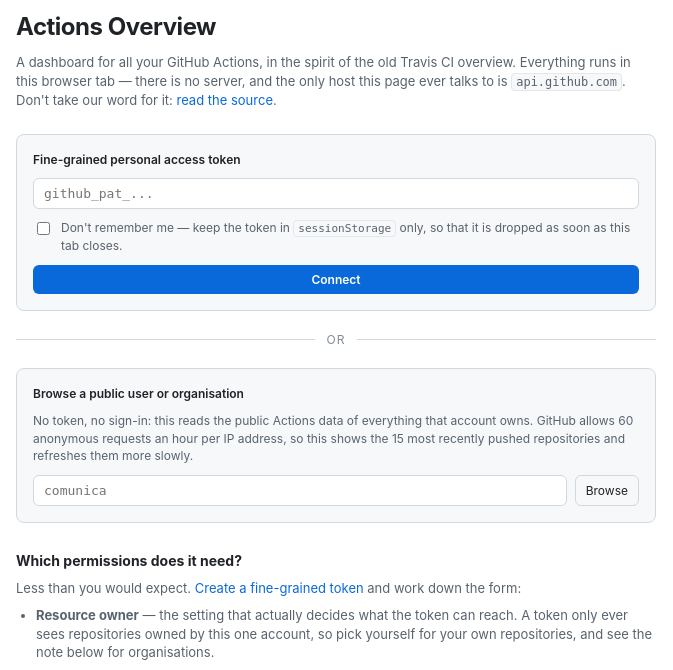
Scenario: App › reports a pasted token that the API rejects, without storing it
In the password field with placeholder "github_pat_...": (336, 194) [33,178,639,209], type "bad"
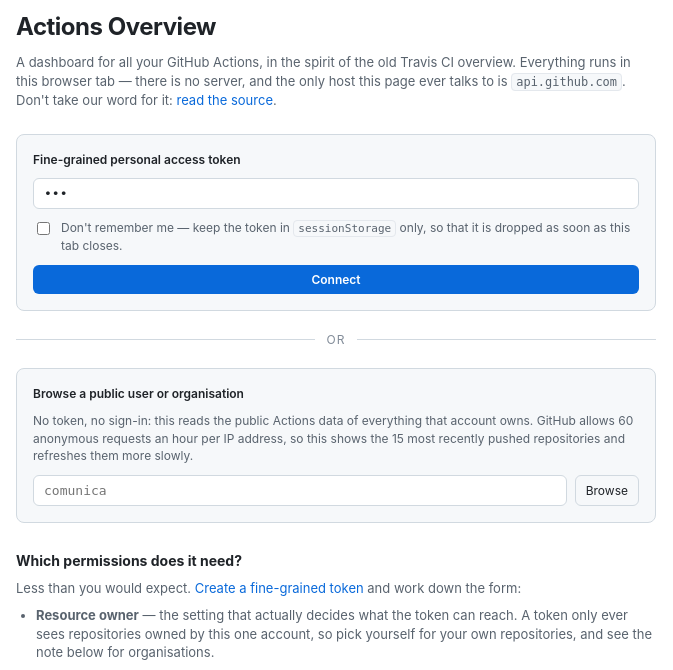
Click the button "Connect": (336, 279) [33,265,639,294]
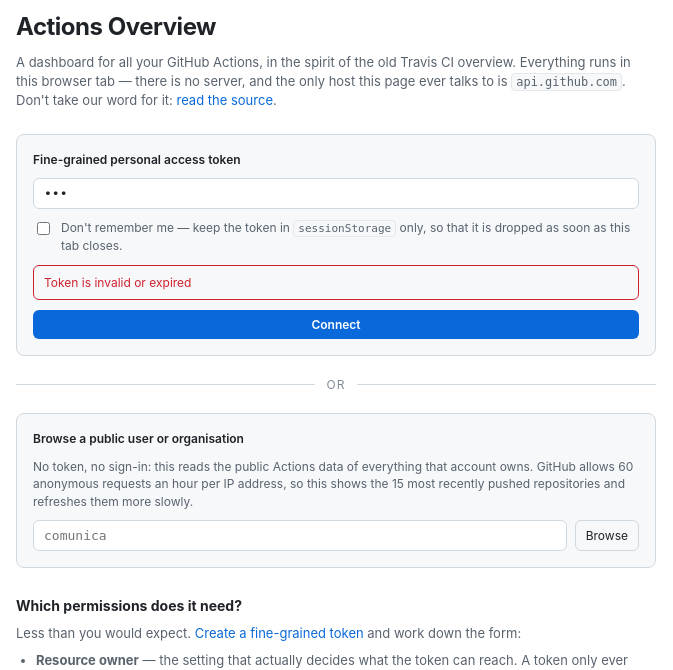
Expected: the message reads "Token is invalid or expired", [44,275,192,290]
